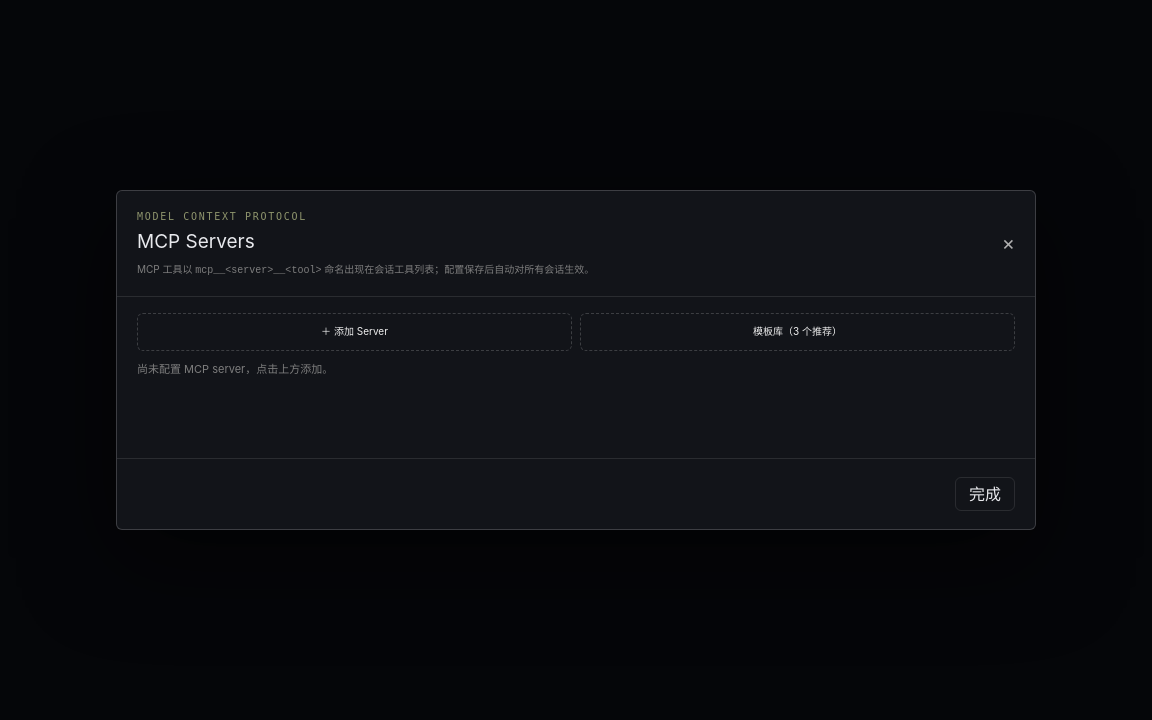
it: McpConfig 模板库（M4.2） › loads the catalog and renders it grouped with risk badges
The image size is (1152, 720).
Click the button "模板库（3 个推荐）" at {"x": 798, "y": 332}, box [580,312,1015,350]
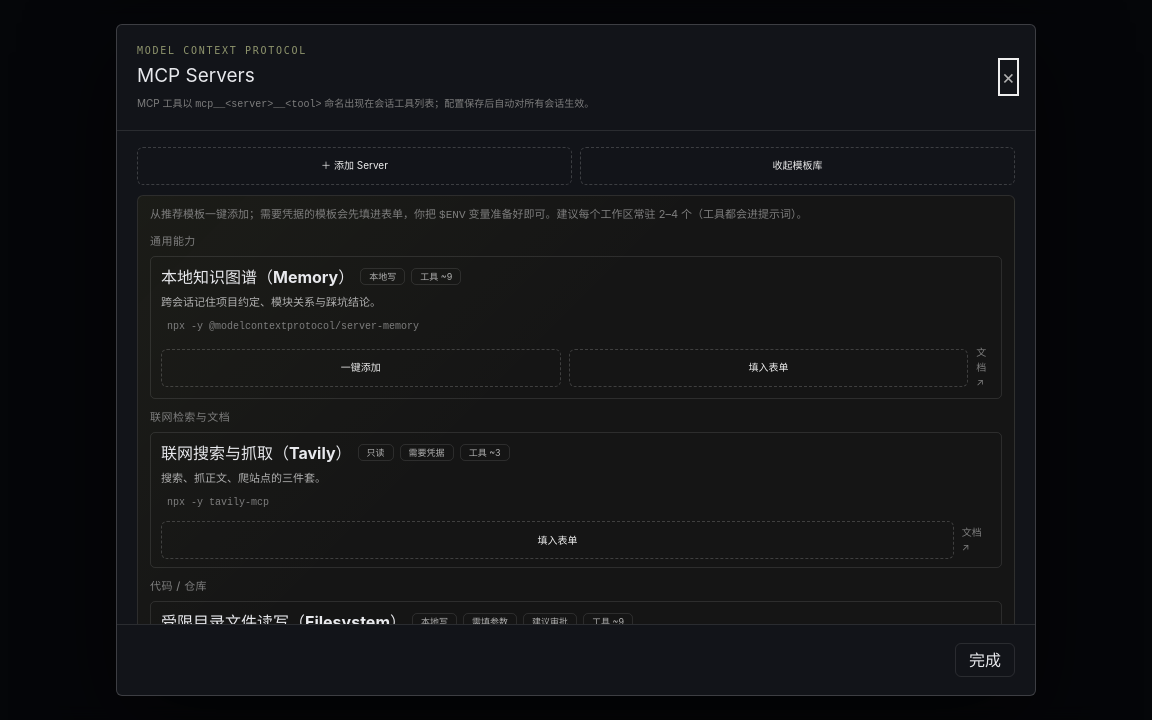
expect the text "收起模板库" is shown: met, box [580,146,1015,184]
expect the text "通用能力" is shown: met, box [150,234,196,248]
expect the text "联网检索与文档" is shown: met, box [150,410,230,424]
